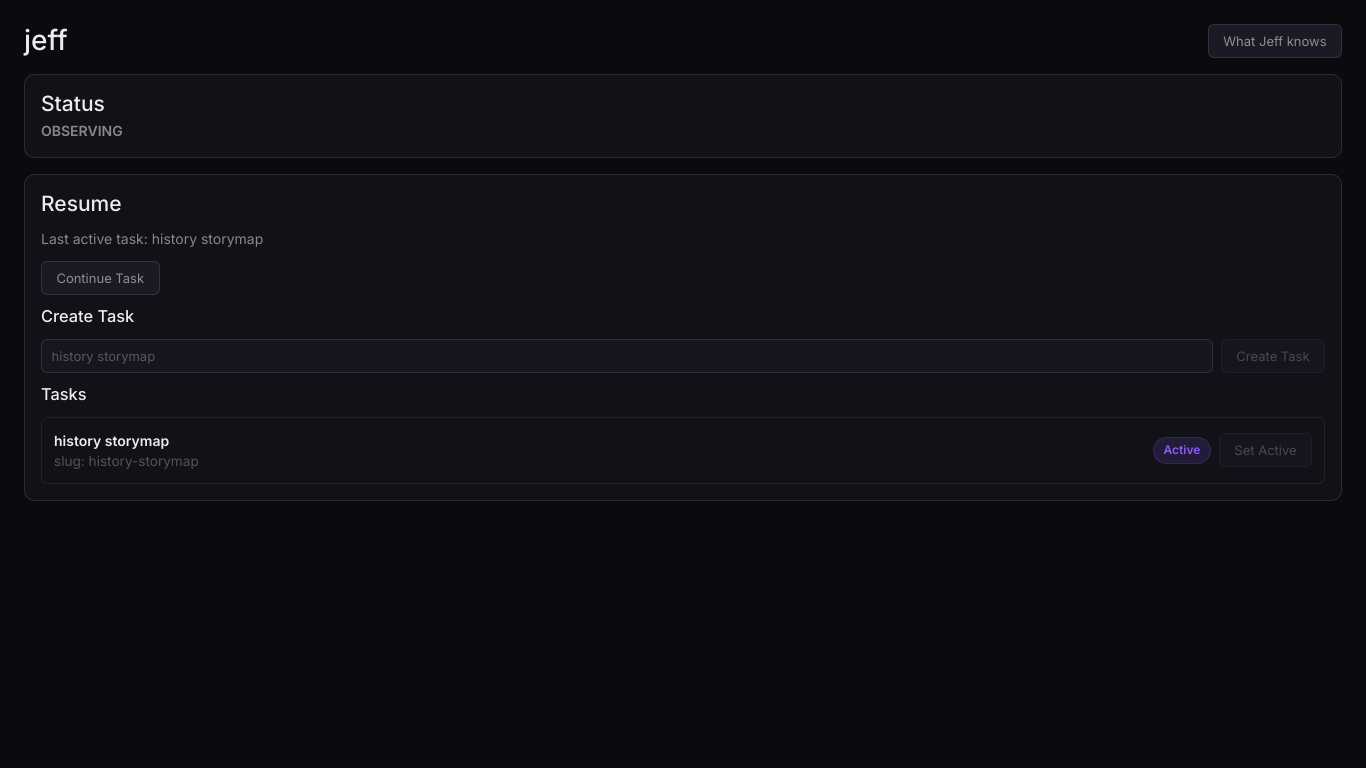
Test case: App › opens in companion mode by default with low-cognitive-load entry
Expected: the element with test id "home-resume-screen" is shown, [24,174,1342,501]
Click the button with test id "continue-task-button": (100, 278) [41,261,160,295]
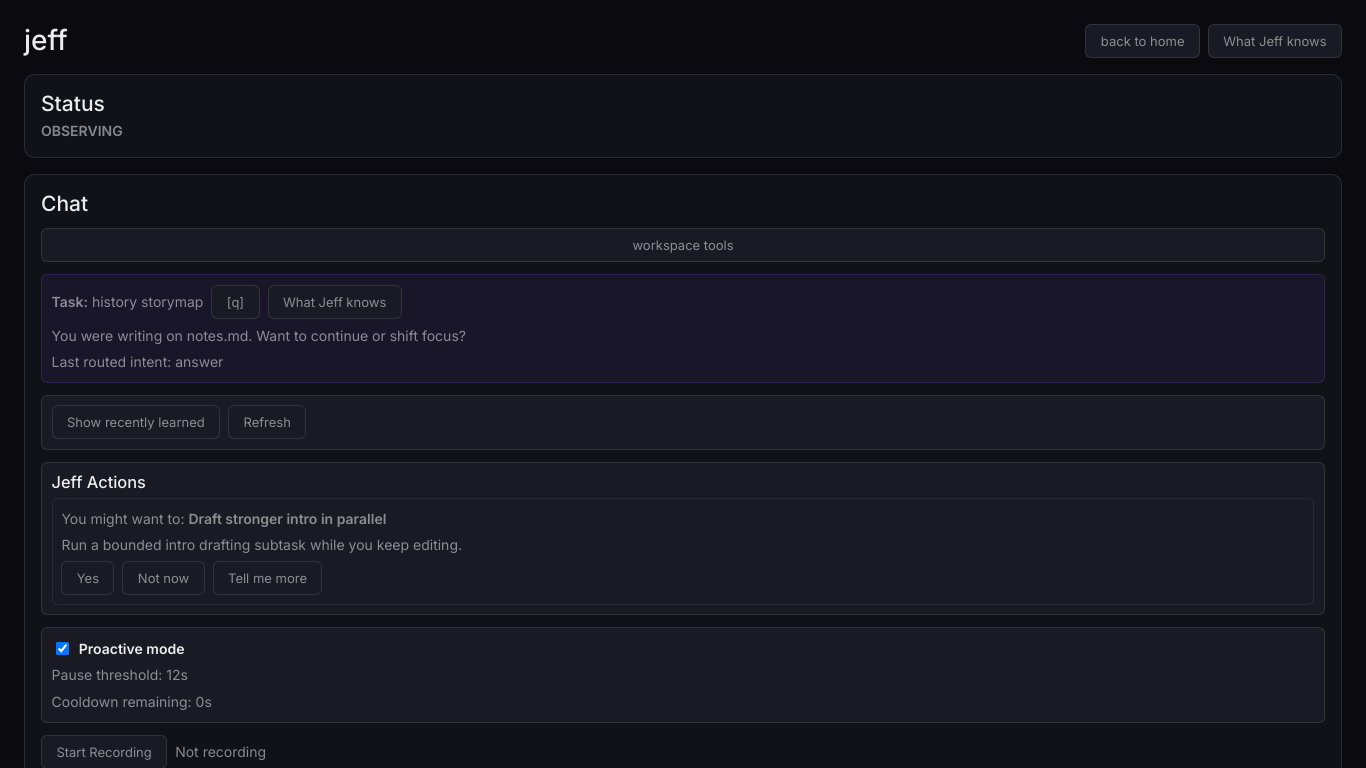
Result: the element with test id "companion-context-header" shows "Task: history storymap" at [41,274,1325,383]
Result: the element with test id "companion-inline-actions" is shown at [41,462,1325,615]
